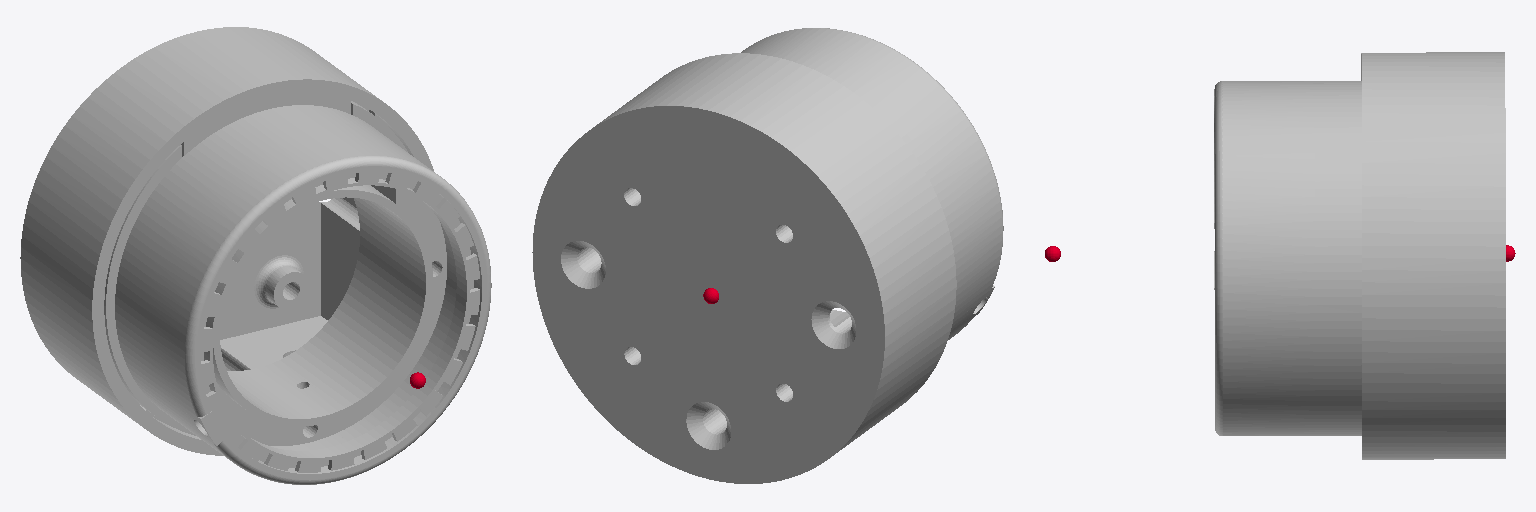
URDF robot description (universal_robot):
<?xml version="1.0" ?>
<robot name="universal_robot">
	<link name="world">
		<inertial>
			<origin rpy="0.00000 -0.00000 0.00000" xyz="0.00000 0.00000 0.00000"/>
			<mass value="0.00000"/>
			<inertia ixx="0.00000" ixy="0" ixz="0" iyy="0.00000" iyz="0" izz="0.00000"/>
		</inertial>
	</link>
	<link name="base_link">
		<inertial>
			<origin rpy="0.00000 -0.00000 0.00000" xyz="0.00000 0.00000 0.00000"/>
			<mass value="4.00000"/>
			<inertia ixx="0.01228" ixy="0" ixz="0" iyy="0.00812" iyz="0" izz="0.01980"/>
		</inertial>
		<visual>
			<origin rpy="0.00000 -0.00000 0.00000" xyz="0.00000 0.00000 0.00000"/>
			<geometry>
				<mesh filename="../robot_arm_assets/ur5/visual/base.obj" scale="1.00000 1.00000 1.00000"/>
			</geometry>
			<material name="mat_0">
				<color rgba="0.70000 0.70000 0.70000 1.00000" />
			</material>
		</visual>
		<collision>
			<origin rpy="0.00000 -0.00000 0.00000" xyz="0.00000 0.00000 0.00000"/>
			<geometry>
				<mesh filename="../robot_arm_assets/ur5/collision/base.stl" scale="1.00000 1.00000 1.00000"/>
			</geometry>
		</collision>
	</link>
	<link name="shoulder_link">
		<inertial>
			<origin rpy="0.00000 -0.00000 0.00000" xyz="0.00000 0.00000 0.00000"/>
			<mass value="3.70000"/>
			<inertia ixx="0.01174" ixy="0" ixz="0" iyy="0.01082" iyz="0" izz="0.01053"/>
		</inertial>
		<visual>
			<origin rpy="0.00000 -0.00000 0.00000" xyz="0.00000 0.00000 0.00000"/>
			<geometry>
				<mesh filename="../robot_arm_assets/ur5/visual/shoulder.obj" scale="1.00000 1.00000 1.00000"/>
			</geometry>
			<material name="mat_1">
				<color rgba="0.20000 0.20000 0.20000 1.00000" />
			</material>
		</visual>
		<collision>
			<origin rpy="0.00000 -0.00000 0.00000" xyz="0.00000 0.00000 0.00000"/>
			<geometry>
				<mesh filename="../robot_arm_assets/ur5/collision/shoulder.stl" scale="1.00000 1.00000 1.00000"/>
			</geometry>
		</collision>
	</link>
	<link name="upper_arm_link">
		<inertial>
			<origin rpy="0.00000 -0.00000 0.00000" xyz="0.00000 0.00000 0.28000"/>
			<mass value="8.39300"/>
			<inertia ixx="0.22574" ixy="0" ixz="0" iyy="0.22306" iyz="0" izz="0.02466"/>
		</inertial>
		<visual>
			<origin rpy="0.00000 -0.00000 0.00000" xyz="0.00000 0.00000 0.00000"/>
			<geometry>
				<mesh filename="../robot_arm_assets/ur5/visual/upperarm.obj" scale="1.00000 1.00000 1.00000"/>
			</geometry>
			<material name="mat_2">
				<color rgba="0.70000 0.70000 0.70000 1.00000" />
			</material>
		</visual>
		<collision>
			<origin rpy="0.00000 -0.00000 0.00000" xyz="0.00000 0.00000 0.00000"/>
			<geometry>
				<mesh filename="../robot_arm_assets/ur5/collision/upperarm.stl" scale="1.00000 1.00000 1.00000"/>
			</geometry>
		</collision>
	</link>
	<link name="forearm_link">
		<inertial>
			<origin rpy="0.00000 -0.00000 0.00000" xyz="0.00000 0.00000 0.25000"/>
			<mass value="2.27500"/>
			<inertia ixx="0.04913" ixy="0" ixz="0" iyy="0.04934" iyz="0" izz="0.00547"/>
		</inertial>
		<visual>
			<origin rpy="0.00000 -0.00000 0.00000" xyz="0.00000 0.00000 0.00000"/>
			<geometry>
				<mesh filename="../robot_arm_assets/ur5/visual/forearm.obj" scale="1.00000 1.00000 1.00000"/>
			</geometry>
			<material name="mat_3">
				<color rgba="0.20000 0.20000 0.20000 1.00000" />
			</material>
		</visual>
		<collision>
			<origin rpy="0.00000 -0.00000 0.00000" xyz="0.00000 0.00000 0.00000"/>
			<geometry>
				<mesh filename="../robot_arm_assets/ur5/collision/forearm.stl" scale="1.00000 1.00000 1.00000"/>
			</geometry>
		</collision>
	</link>
	<link name="wrist_1_link">
		<inertial>
			<origin rpy="0.00000 -0.00000 0.00000" xyz="0.00000 0.00000 0.00000"/>
			<mass value="1.21900"/>
			<inertia ixx="0.00209" ixy="0" ixz="0" iyy="0.00195" iyz="0" izz="0.00155"/>
		</inertial>
		<visual>
			<origin rpy="0.00000 -0.00000 0.00000" xyz="0.00000 0.00000 0.00000"/>
			<geometry>
				<mesh filename="../robot_arm_assets/ur5/visual/wrist1.obj" scale="1.00000 1.00000 1.00000"/>
			</geometry>
			<material name="mat_4">
				<color rgba="0.70000 0.70000 0.70000 1.00000" />
			</material>
		</visual>
		<collision>
			<origin rpy="0.00000 -0.00000 0.00000" xyz="0.00000 0.00000 0.00000"/>
			<geometry>
				<mesh filename="../robot_arm_assets/ur5/collision/wrist1.stl" scale="1.00000 1.00000 1.00000"/>
			</geometry>
		</collision>
	</link>
	<link name="wrist_2_link">
		<inertial>
			<origin rpy="0.00000 -0.00000 0.00000" xyz="0.00000 0.00000 0.00000"/>
			<mass value="1.21900"/>
			<inertia ixx="0.00207" ixy="0" ixz="0" iyy="0.00154" iyz="0" izz="0.00195"/>
		</inertial>
		<visual>
			<origin rpy="0.00000 -0.00000 0.00000" xyz="0.00000 0.00000 0.00000"/>
			<geometry>
				<mesh filename="../robot_arm_assets/ur5/visual/wrist2.obj" scale="1.00000 1.00000 1.00000"/>
			</geometry>
			<material name="mat_5">
				<color rgba="0.20000 0.20000 0.20000 1.00000" />
			</material>
		</visual>
		<collision>
			<origin rpy="0.00000 -0.00000 0.00000" xyz="0.00000 0.00000 0.00000"/>
			<geometry>
				<mesh filename="../robot_arm_assets/ur5/collision/wrist2.stl" scale="1.00000 1.00000 1.00000"/>
			</geometry>
		</collision>
	</link>
	<link name="wrist_3_link">
		<inertial>
			<origin rpy="0.00000 -0.00000 0.00000" xyz="0.00000 0.00000 0.00000"/>
			<mass value="0.18790"/>
			<inertia ixx="0.00014" ixy="0" ixz="0" iyy="0.00022" iyz="0" izz="0.00013"/>
		</inertial>
		<visual>
			<origin rpy="0.00000 -0.00000 0.00000" xyz="0.00000 0.00000 0.00000"/>
			<geometry>
				<mesh filename="../robot_arm_assets/ur5/visual/wrist3.obj" scale="1.00000 1.00000 1.00000"/>
			</geometry>
			<material name="mat_6">
				<color rgba="0.70000 0.70000 0.70000 1.00000" />
			</material>
		</visual>
		<collision>
			<origin rpy="0.00000 -0.00000 0.00000" xyz="0.00000 0.00000 0.00000"/>
			<geometry>
				<mesh filename="../robot_arm_assets/ur5/collision/wrist3.stl" scale="1.00000 1.00000 1.00000"/>
			</geometry>
		</collision>
	</link>
	<link name="ee_link">
		<inertial>
			<origin rpy="-3.14000 -0.00000 1.57000" xyz="0.00000 0.00000 0.00000"/>
			<mass value="0.00000"/>
			<inertia ixx="0.00000" ixy="0" ixz="0" iyy="0.00000" iyz="0" izz="0.00000"/>
		</inertial>
		<visual>
			<origin rpy="0.00000 -0.00000 0.00000" xyz="0.00000 0.00000 0.00000"/>
			<geometry>
				<sphere radius="0.00100"/>
			</geometry>
			<material name="mat_7">
				<color rgba="0.90000 0.00000 0.20000 1.00000" />
			</material>
		</visual>
		<collision>
			<origin rpy="0.00000 -0.00000 0.00000" xyz="0.00000 0.00000 0.00000"/>
			<geometry>
				<sphere radius="0.00100"/>
			</geometry>
		</collision>
	</link>
	<link name="tactip_body_link">
		<inertial>
			<origin rpy="0.00000 -0.00000 0.00000" xyz="0.00000 0.00000 0.00000"/>
			<mass value="0.25000"/>
			<inertia ixx="0.00010" ixy="0" ixz="0" iyy="0.00010" iyz="0" izz="0.00013"/>
		</inertial>
		<visual>
			<origin rpy="0.00000 -0.00000 0.00000" xyz="0.00000 0.00000 0.00000"/>
			<geometry>
				<mesh filename="../sensor_assets/mini_tactip/body/minitip_body.obj" scale="1.00000 1.00000 1.00000"/>
			</geometry>
			<material name="mat_8">
				<color rgba="0.80000 0.80000 0.80000 1.00000" />
			</material>
		</visual>
		<collision>
			<origin rpy="0.00000 -0.00000 0.00000" xyz="0.00000 0.00000 0.00000"/>
			<geometry>
				<mesh filename="../sensor_assets/mini_tactip/body/minitip_body.obj" scale="1.00000 1.00000 1.00000"/>
			</geometry>
		</collision>
	</link>
	<link name="tactip_tip_link">
		<inertial>
			<origin rpy="0.00000 -0.00000 0.00000" xyz="0.00000 0.00000 0.00000"/>
			<mass value="0.01000"/>
			<inertia ixx="0.00000" ixy="0" ixz="0" iyy="0.00000" iyz="0" izz="0.00000"/>
		</inertial>
		<visual>
			<origin rpy="0.00000 -0.00000 0.00000" xyz="0.00000 0.00000 0.00000"/>
			<geometry>
				<mesh filename="../sensor_assets/mini_tactip/tip/skin.obj" scale="1.00000 1.00000 1.00000"/>
			</geometry>
			<material name="mat_9">
				<color rgba="0.00000 0.00000 0.00000 1.00000" />
			</material>
		</visual>
		<collision>
			<origin rpy="0.00000 -0.00000 0.00000" xyz="0.00000 0.00000 0.00000"/>
			<geometry>
				<mesh filename="../sensor_assets/mini_tactip/tip/core.obj" scale="1.00000 1.00000 1.00000"/>
			</geometry>
		</collision>
	</link>
	<link name="tcp_link">
		<inertial>
			<origin rpy="0.00000 -0.00000 1.57000" xyz="0.00000 0.00000 0.00000"/>
			<mass value="0.00000"/>
			<inertia ixx="0.00000" ixy="0" ixz="0" iyy="0.00000" iyz="0" izz="0.00000"/>
		</inertial>
		<visual>
			<origin rpy="0.00000 -0.00000 0.00000" xyz="0.00000 0.00000 0.00000"/>
			<geometry>
				<sphere radius="0.00100"/>
			</geometry>
			<material name="mat_10">
				<color rgba="0.90000 0.00000 0.20000 0.50000" />
			</material>
		</visual>
	</link>
	<joint name="world_joint" type="fixed">
		<parent link="world"/>
		<child link="base_link"/>
		<dynamics damping="1.0" friction="0.0001"/>
		<origin rpy="0.00000 -0.00000 -3.14000" xyz="0.00000 0.00000 0.00000"/>
		<axis xyz="0.00000 0.00000 0.00000"/>
	</joint>
	<joint name="base_joint" type="revolute">
		<parent link="base_link"/>
		<child link="shoulder_link"/>
		<limit effort="150.00000" lower="-100.00000" upper="100.00000" velocity="3.15000"/>
		<dynamics damping="1.0" friction="0.0001"/>
		<origin rpy="0.00000 -0.00000 0.00000" xyz="0.00000 0.00000 0.08916"/>
		<axis xyz="0.00000 0.00000 1.00000"/>
	</joint>
	<joint name="shoulder_joint" type="revolute">
		<parent link="shoulder_link"/>
		<child link="upper_arm_link"/>
		<limit effort="150.00000" lower="-100.00000" upper="100.00000" velocity="3.15000"/>
		<dynamics damping="1.0" friction="0.0001"/>
		<origin rpy="0.00000 1.57080 -0.00000" xyz="0.00000 0.13585 0.00000"/>
		<axis xyz="0.00000 1.00000 0.00000"/>
	</joint>
	<joint name="elbow_joint" type="revolute">
		<parent link="upper_arm_link"/>
		<child link="forearm_link"/>
		<limit effort="150.00000" lower="-100.00000" upper="100.00000" velocity="3.15000"/>
		<dynamics damping="1.0" friction="0.0001"/>
		<origin rpy="0.00000 -0.00000 0.00000" xyz="0.00000 -0.11970 0.42500"/>
		<axis xyz="0.00000 1.00000 0.00000"/>
	</joint>
	<joint name="wrist_1_joint" type="revolute">
		<parent link="forearm_link"/>
		<child link="wrist_1_link"/>
		<limit effort="28.00000" lower="-100.00000" upper="100.00000" velocity="3.20000"/>
		<dynamics damping="1.0" friction="0.0001"/>
		<origin rpy="0.00000 1.57080 -0.00000" xyz="0.00000 0.00000 0.39225"/>
		<axis xyz="0.00000 1.00000 0.00000"/>
	</joint>
	<joint name="wrist_2_joint" type="revolute">
		<parent link="wrist_1_link"/>
		<child link="wrist_2_link"/>
		<limit effort="28.00000" lower="-100.00000" upper="100.00000" velocity="3.20000"/>
		<dynamics damping="1.0" friction="0.0001"/>
		<origin rpy="0.00000 -0.00000 0.00000" xyz="0.00000 0.09300 0.00000"/>
		<axis xyz="0.00000 0.00000 1.00000"/>
	</joint>
	<joint name="wrist_3_joint" type="revolute">
		<parent link="wrist_2_link"/>
		<child link="wrist_3_link"/>
		<limit effort="28.00000" lower="-100.00000" upper="100.00000" velocity="3.20000"/>
		<dynamics damping="1.0" friction="0.0001"/>
		<origin rpy="0.00000 -0.00000 0.00000" xyz="0.00000 0.00000 0.09465"/>
		<axis xyz="0.00000 1.00000 0.00000"/>
	</joint>
	<joint name="ee_joint" type="fixed">
		<parent link="wrist_3_link"/>
		<child link="ee_link"/>
		<dynamics damping="1.0" friction="0.0001"/>
		<origin rpy="-1.57159 0.00159 3.14159" xyz="0.00000 0.08230 0.00000"/>
		<axis xyz="0.00000 0.00000 0.00000"/>
	</joint>
	<joint name="joint_dummy1" type="fixed">
		<parent link="ee_link"/>
		<child link="tactip_body_link"/>
		<dynamics damping="1.0" friction="0.0001"/>
		<origin rpy="-3.14159 0.00000 3.14159" xyz="0.00000 0.00000 0.00000"/>
		<axis xyz="0.00000 0.00000 1.00000"/>
	</joint>
	<joint name="tactip_tip_to_body" type="fixed">
		<parent link="tactip_body_link"/>
		<child link="tactip_tip_link"/>
		<dynamics damping="1.0" friction="0.0001"/>
		<origin rpy="1.57000 -0.00000 0.00000" xyz="0.00000 0.00000 0.03500"/>
		<axis xyz="0.00000 0.00000 0.00000"/>
	</joint>
	<joint name="tcp_joint" type="fixed">
		<parent link="tactip_body_link"/>
		<child link="tcp_link"/>
		<dynamics damping="1.0" friction="0.0001"/>
		<origin rpy="0.00000 -0.00000 0.00000" xyz="0.00000 0.00000 0.05500"/>
		<axis xyz="0.00000 0.00000 0.00000"/>
	</joint>
</robot>

--- Render facts (derived) ---
Views: 3 orthographic renders of the robot side by side, from view 1: azimuth 30°, elevation 25°; view 2: azimuth 150°, elevation 25°; view 3: azimuth 270°, elevation 25°.
Model universal_robot with 12 links and 11 joints (6 revolute, 5 fixed), rooted at world, posed all joints at 0.
Links seen in each view (by area): view 1: tactip_body_link; view 2: tactip_body_link; view 3: tactip_body_link.
Boxes of the visible links, x1,y1,x2,y2 form: tactip_body_link: (20, 27, 491, 484); tactip_body_link: (532, 28, 1003, 483); tactip_body_link: (1214, 52, 1505, 459).
Size in the robot's own frame: 0.0493 by 0.057 by 0.0493 metres.
Meshes: 9 distinct files referenced, 1 mesh visuals loaded (1 OBJ); not drawn: 8 (reference not matched to a file when rendering).